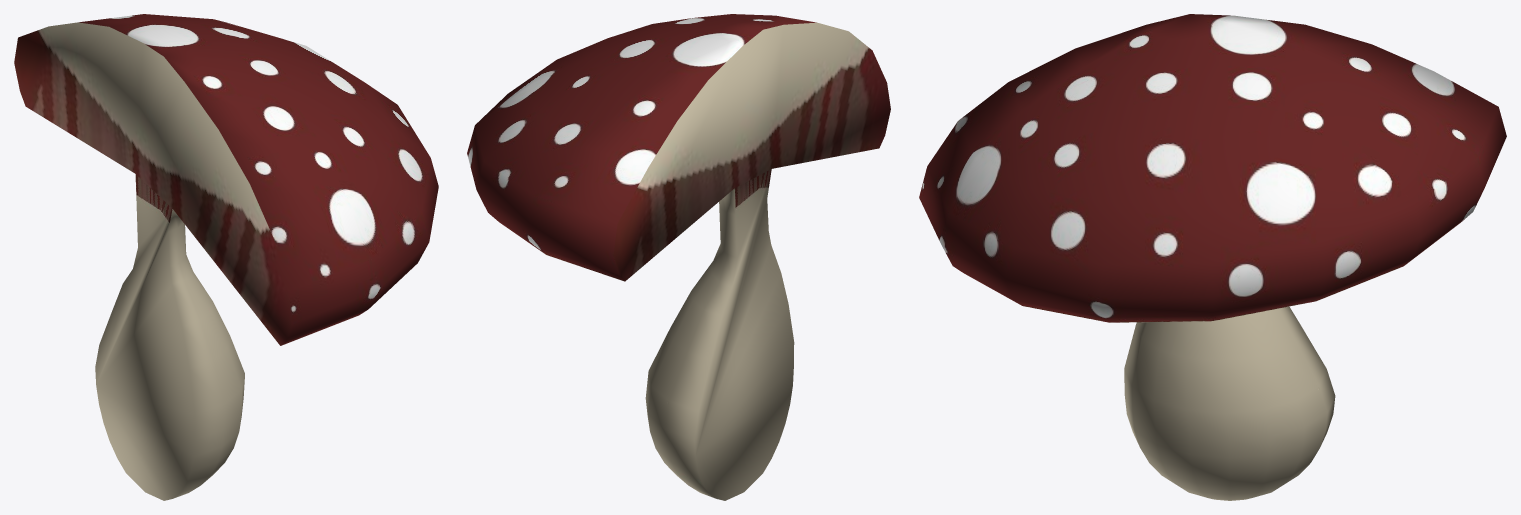
Rendered from Moohomore-05.fbx.
3 renders of one model, left to right at view 1: azimuth 30°, elevation 25°; view 2: azimuth 150°, elevation 25°; view 3: azimuth 270°, elevation 25°, orthographic. The views are drawn at different scales.
Visible parts, largest first — view 1: Mohomore; view 2: Mohomore; view 3: Mohomore.
Boxes of the visible parts, x1,y1,x2,y2 form: Mohomore: (14, 14, 438, 500); Mohomore: (467, 14, 890, 500); Mohomore: (919, 14, 1506, 500).
Bounding box in the file's own units: 28.63 × 48.84 × 54.72.
Materials: 1 (1 with a texture image).
